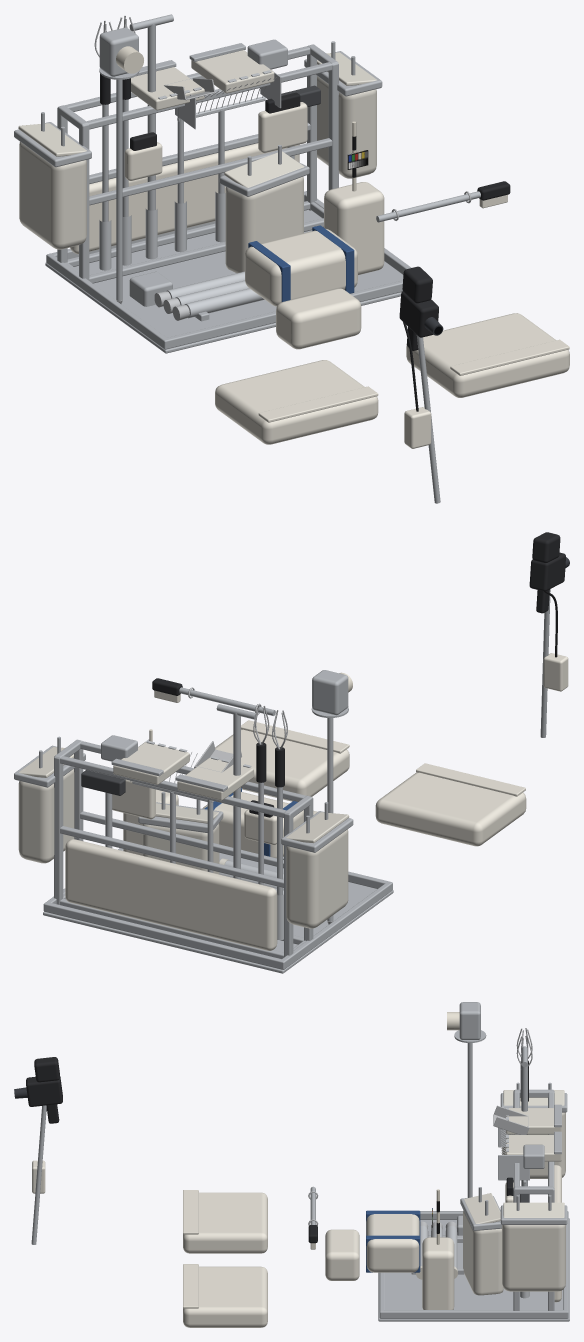
The model's file is lrv-payload.glb.
The picture shows the model from 3 angles, top to bottom: view 1: azimuth 30°, elevation 25°; view 2: azimuth 150°, elevation 25°; view 3: azimuth 270°, elevation 25°; orthographic projection. The views are drawn at different scales.
Visible parts, largest first — view 1: STOWAGE_BAGS_Tela_beta_bolsas_, SAMPLE_BAGS_Bolsa_de_tefl_n, HAND_TOOL_CARRIER, HAND_TOOL_CARRIER_Aluminio_satinado, AFT_PALLET_Aluminio_satinado, BUDDY_SLSS_Tela_beta_bolsas_, GNOMON_Tela_beta_bolsas_, PENETROMETER_Aluminio_satinado, SAMPLE_BAGS, GEOLOGY_TOOLS_Aluminio_satinado, DATA_ACQUISITION_CAMERA, GEOLOGY_TOOLS (+6 smaller); view 2: HAND_TOOL_CARRIER, SAMPLE_BAGS_Bolsa_de_tefl_n, STOWAGE_BAGS_Tela_beta_bolsas_, HAND_TOOL_CARRIER_Aluminio_satinado, AFT_PALLET_Aluminio_satinado, GEOLOGY_TOOLS_Aluminio_satinado, SAMPLE_BAGS, DATA_ACQUISITION_CAMERA, GEOLOGY_TOOLS, PENETROMETER_Aluminio_satinado, BUDDY_SLSS_Tela_beta_bolsas_, STOWAGE_BAGS (+3 smaller); view 3: STOWAGE_BAGS_Tela_beta_bolsas_, SAMPLE_BAGS_Bolsa_de_tefl_n, AFT_PALLET_Aluminio_satinado, BUDDY_SLSS_Tela_beta_bolsas_, GNOMON_Tela_beta_bolsas_, DATA_ACQUISITION_CAMERA, PENETROMETER_Aluminio_satinado, GEOLOGY_TOOLS, SAMPLE_BAGS, HAND_TOOL_CARRIER_Aluminio_satinado, DRIVE_TUBES, DATA_ACQUISITION_CAMERA_Aluminio_satinado (+5 smaller).
Part boxes in pixels (<box>): STOWAGE_BAGS_Tela_beta_bolsas_: <box>215,194,569,444</box>; SAMPLE_BAGS_Bolsa_de_tefl_n: <box>18,50,376,273</box>; HAND_TOOL_CARRIER: <box>70,92,307,270</box>; HAND_TOOL_CARRIER_Aluminio_satinado: <box>57,44,338,283</box>; AFT_PALLET_Aluminio_satinado: <box>45,191,411,353</box>; BUDDY_SLSS_Tela_beta_bolsas_: <box>245,228,357,306</box>; GNOMON_Tela_beta_bolsas_: <box>324,182,384,274</box>; PENETROMETER_Aluminio_satinado: <box>99,27,172,306</box>; SAMPLE_BAGS: <box>14,41,382,196</box>; GEOLOGY_TOOLS_Aluminio_satinado: <box>102,14,294,221</box>; DATA_ACQUISITION_CAMERA: <box>399,266,443,448</box>; GEOLOGY_TOOLS: <box>94,16,320,129</box>; HAND_TOOL_CARRIER: <box>65,779,283,950</box>; SAMPLE_BAGS_Bolsa_de_tefl_n: <box>18,742,349,928</box>; STOWAGE_BAGS_Tela_beta_bolsas_: <box>154,690,526,846</box>; HAND_TOOL_CARRIER_Aluminio_satinado: <box>54,739,313,958</box>; AFT_PALLET_Aluminio_satinado: <box>43,848,393,973</box>; GEOLOGY_TOOLS_Aluminio_satinado: <box>105,704,282,895</box>; SAMPLE_BAGS: <box>14,736,353,852</box>; DATA_ACQUISITION_CAMERA: <box>529,532,569,691</box>; GEOLOGY_TOOLS: <box>81,705,287,802</box>; PENETROMETER_Aluminio_satinado: <box>311,670,348,921</box>; BUDDY_SLSS_Tela_beta_bolsas_: <box>202,792,303,858</box>; STOWAGE_BAGS: <box>152,678,275,715</box>; STOWAGE_BAGS_Tela_beta_bolsas_: <box>183,1190,359,1327</box>; SAMPLE_BAGS_Bolsa_de_tefl_n: <box>463,1090,565,1295</box>; AFT_PALLET_Aluminio_satinado: <box>378,1211,569,1321</box>; BUDDY_SLSS_Tela_beta_bolsas_: <box>366,1214,419,1272</box>; GNOMON_Tela_beta_bolsas_: <box>422,1237,454,1309</box>; DATA_ACQUISITION_CAMERA: <box>14,1057,62,1193</box>; PENETROMETER_Aluminio_satinado: <box>454,1002,486,1235</box>; GEOLOGY_TOOLS: <box>493,1028,532,1202</box>; SAMPLE_BAGS: <box>460,1082,567,1230</box>; HAND_TOOL_CARRIER_Aluminio_satinado: <box>513,1089,554,1310</box>; DRIVE_TUBES: <box>411,1144,544,1279</box>; DATA_ACQUISITION_CAMERA_Aluminio_satinado: <box>31,1105,46,1244</box>.
Size of the model in its own units: 1.15 by 0.9159 by 2.09.
15 materials, 1 textured.
